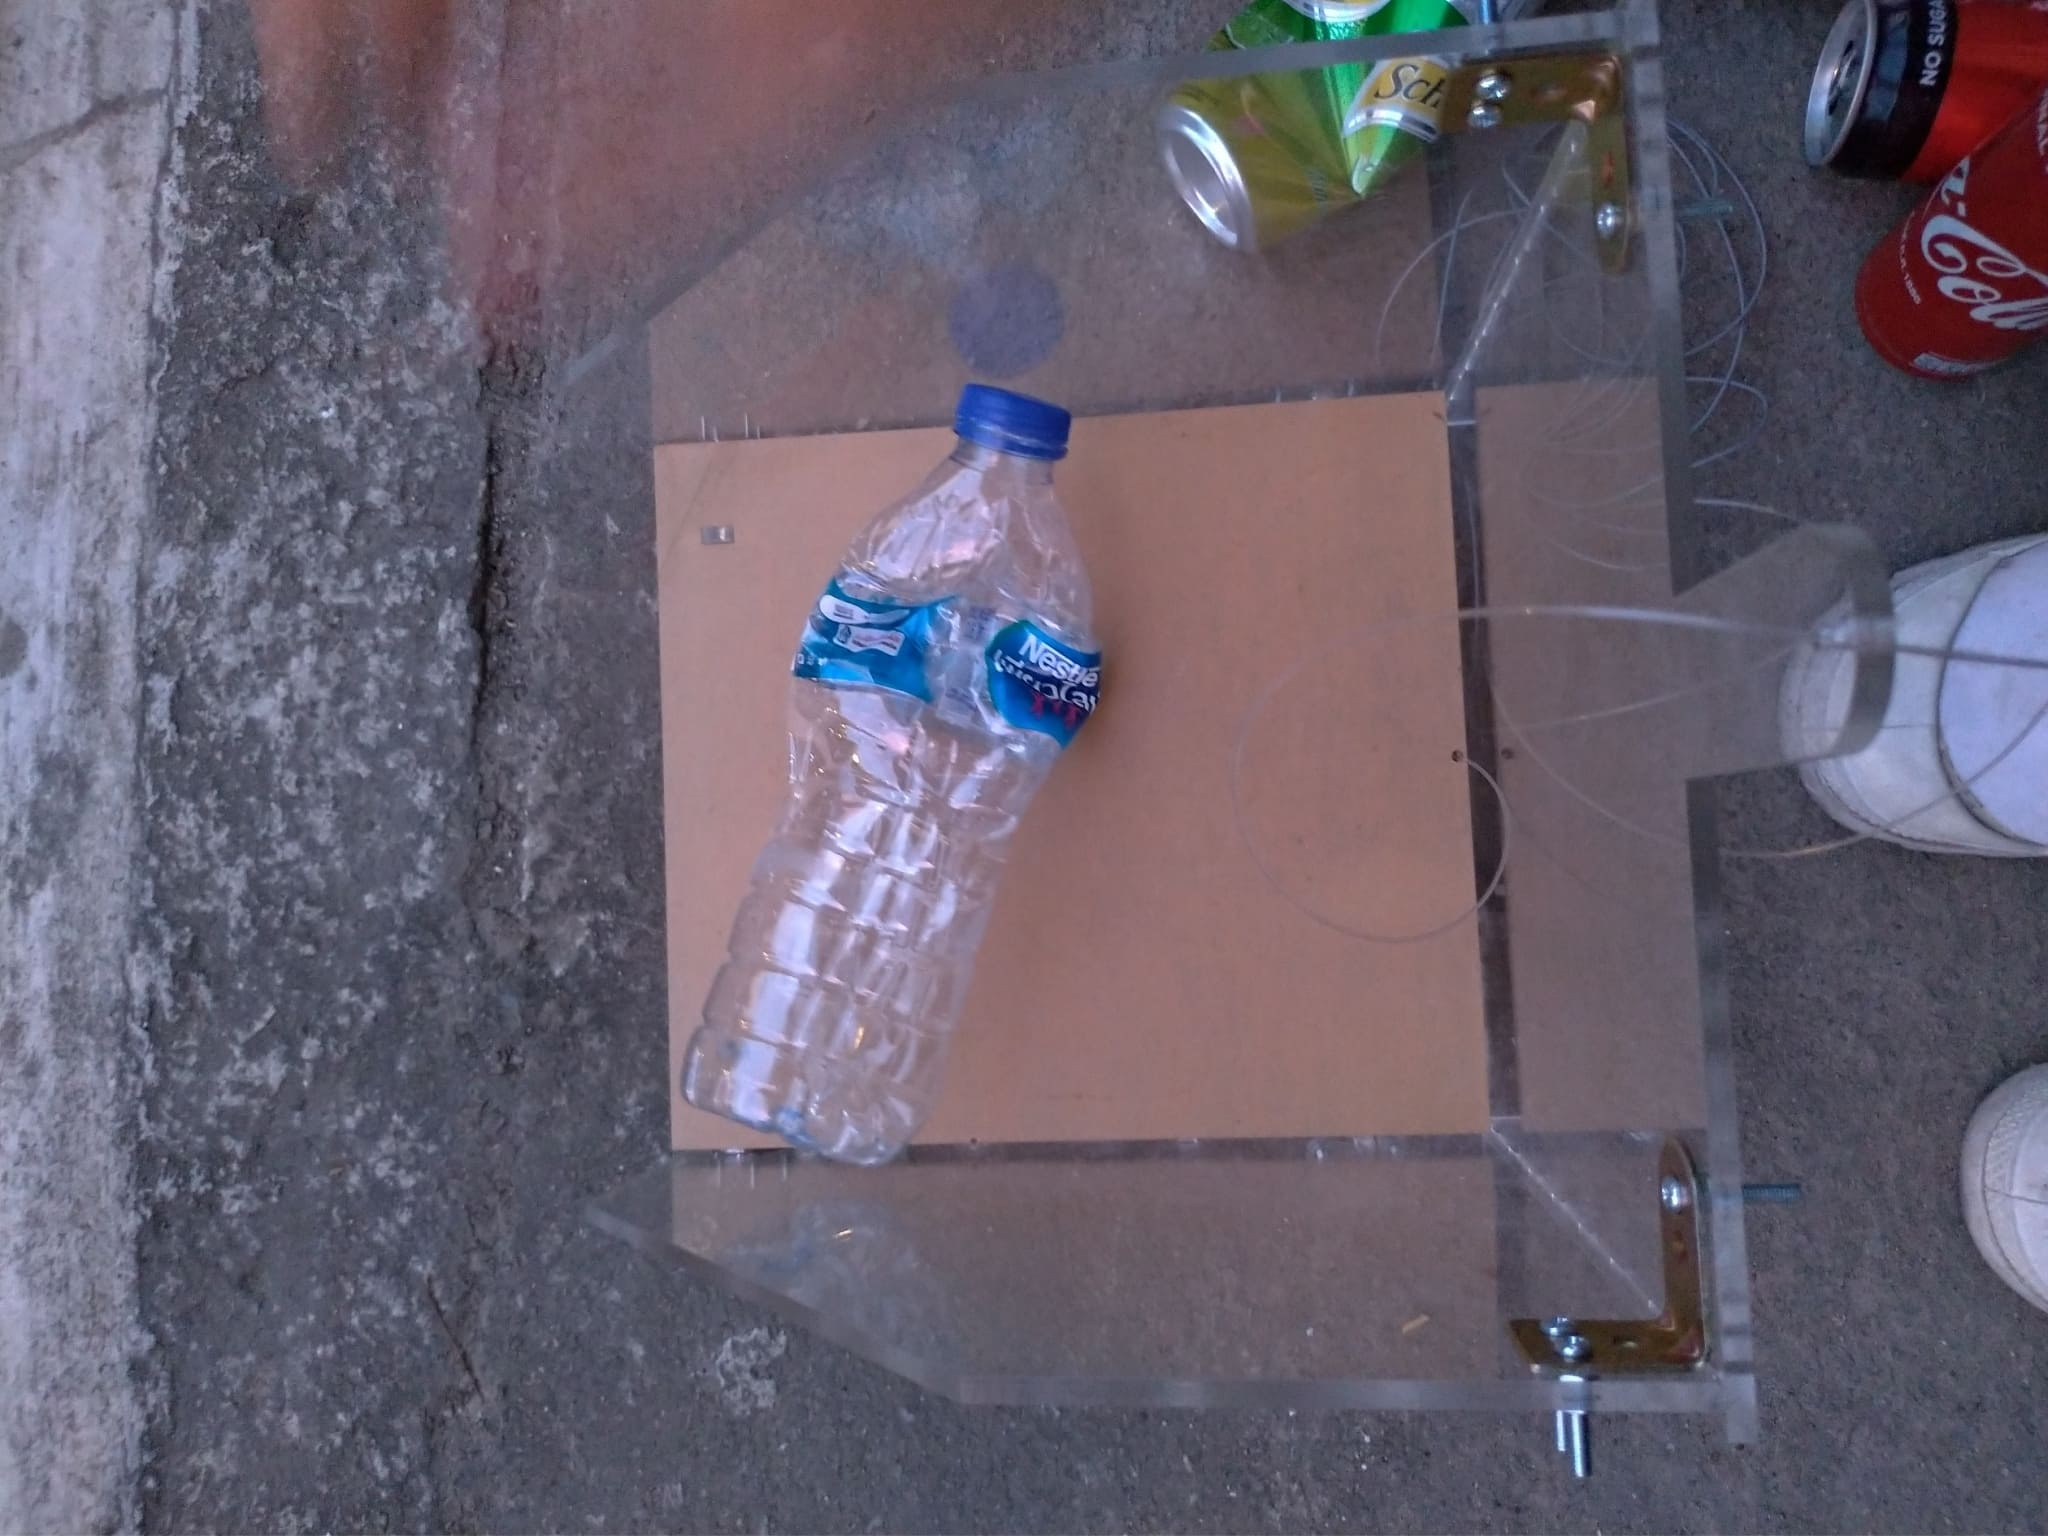AlCan: (1151, 3, 1461, 255), (1854, 82, 2048, 381), (1801, 2, 2011, 181)
PlasticBottle: (682, 376, 1101, 1167)
